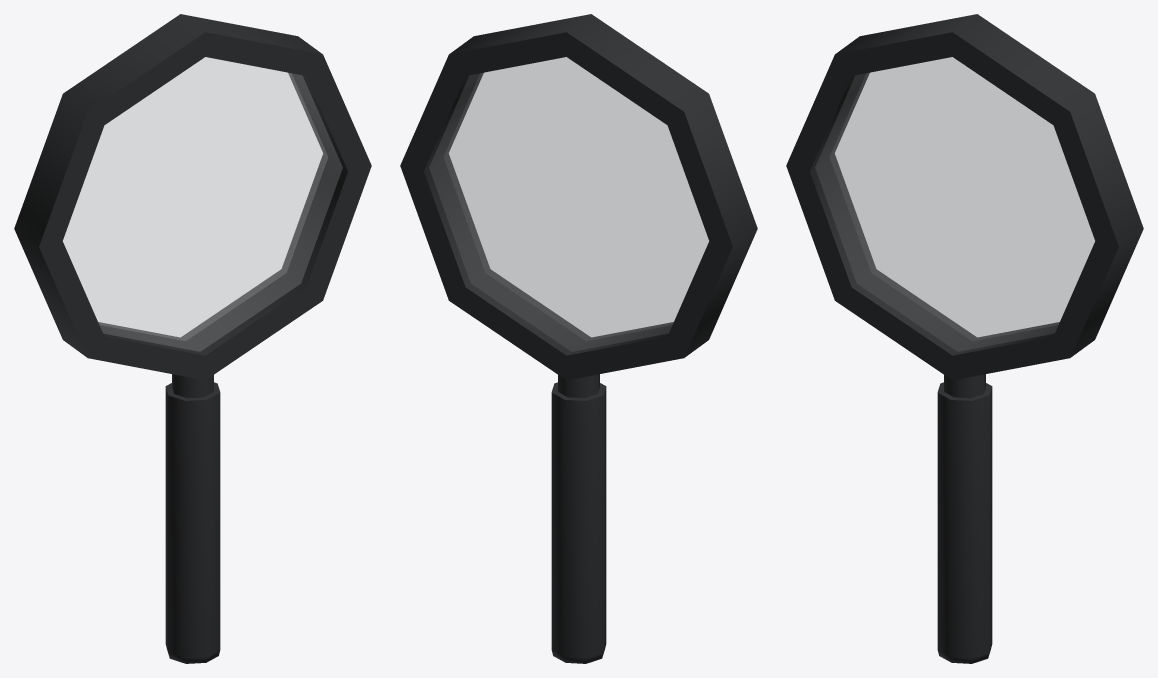
The model's file is lab-magnifier.glb.
The picture shows the model from 3 angles, left to right: view 1: azimuth 30°, elevation 25°; view 2: azimuth 150°, elevation 25°; view 3: azimuth 330°, elevation 25°; orthographic projection.
Visible parts, largest first — view 1: misc_magnifying_glass; view 2: misc_magnifying_glass; view 3: misc_magnifying_glass.
Boxes of the visible parts, x1,y1,x2,y2 form: misc_magnifying_glass: (14, 14, 371, 663); misc_magnifying_glass: (400, 14, 757, 663); misc_magnifying_glass: (786, 14, 1143, 663).
Size of the model in its own units: 20.69 by 37.43 by 3.06.
Materials: 2 (2 with a texture image).
